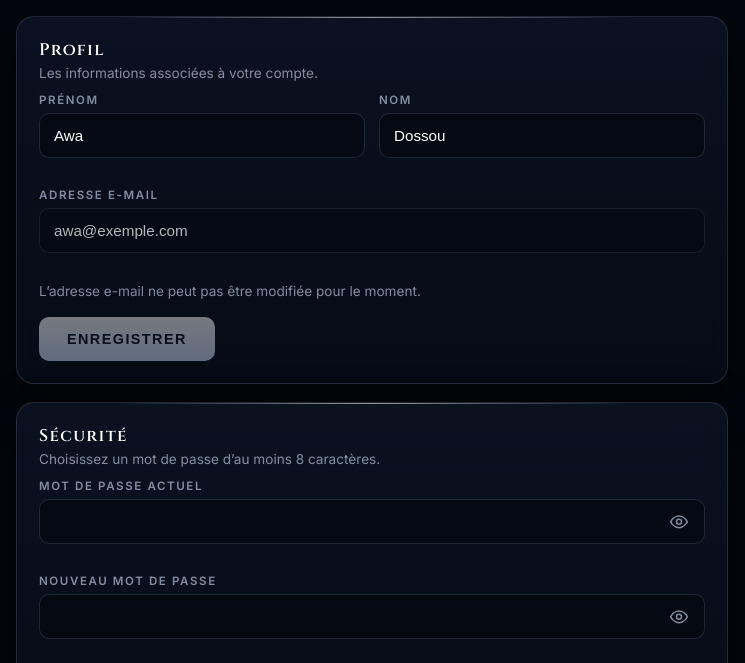
Test: Settings : profil › affiche l’erreur du serveur
The image size is (745, 663).
Step 1. Replace the text in the field labelled "Prénom" with "Marc" → (202, 136), box [39,113,365,158]
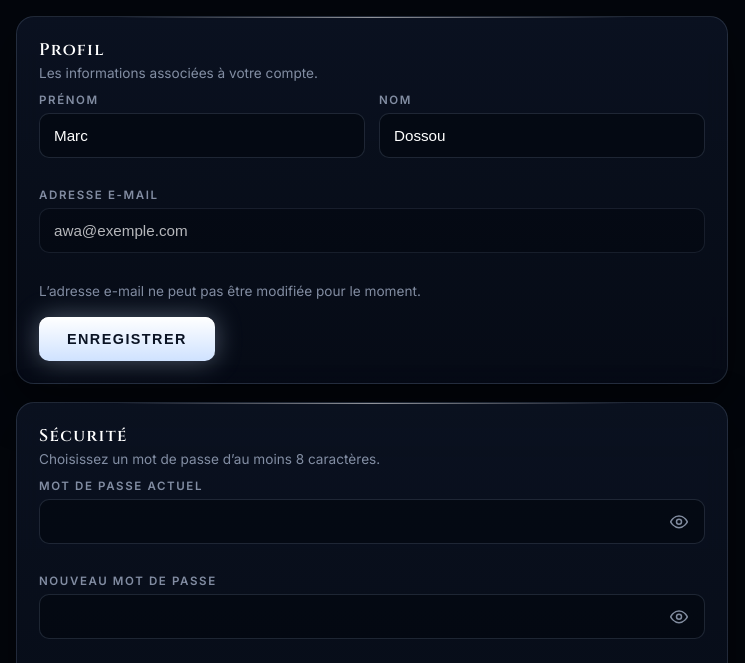
Step 2. Click the button "Enregistrer" → (127, 339), box [39,317,215,361]
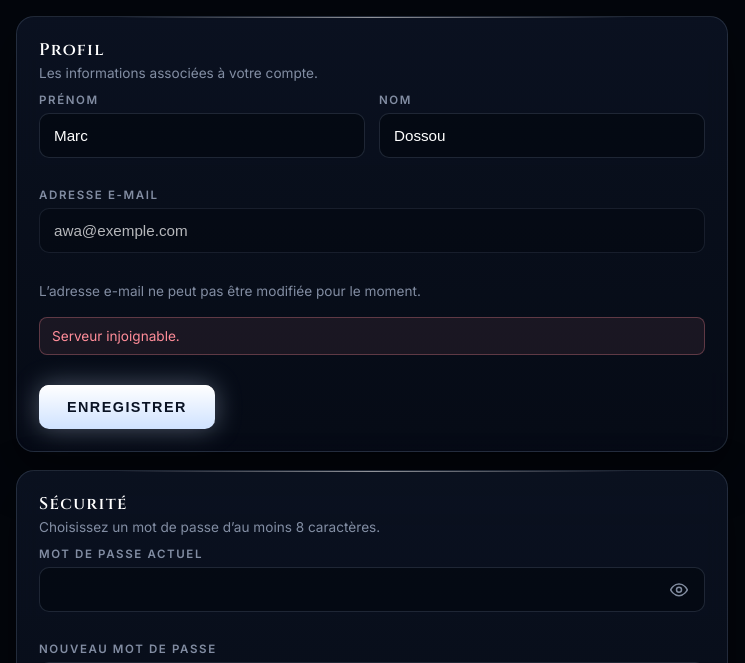
Expected: the message reads "Serveur injoignable.", [52,328,180,344]
